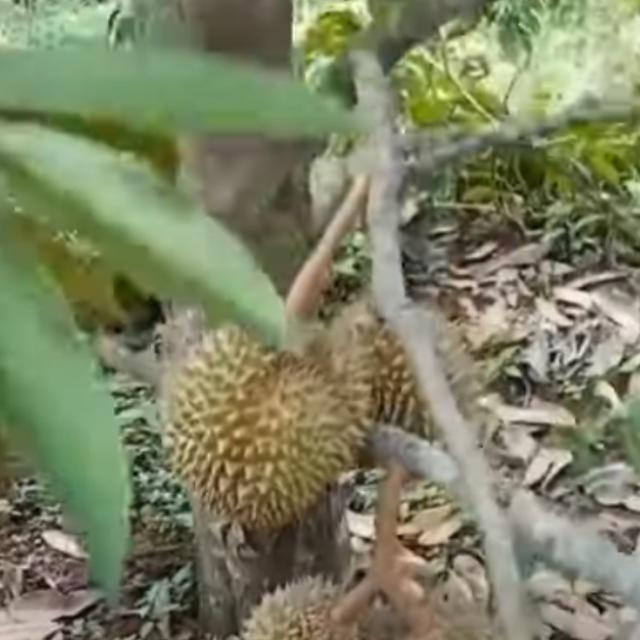mature: (157, 292, 360, 531)
